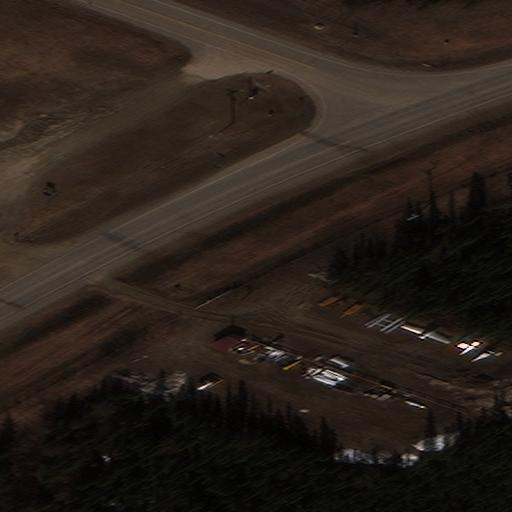Small Civil Transport: (401, 315, 449, 344)
